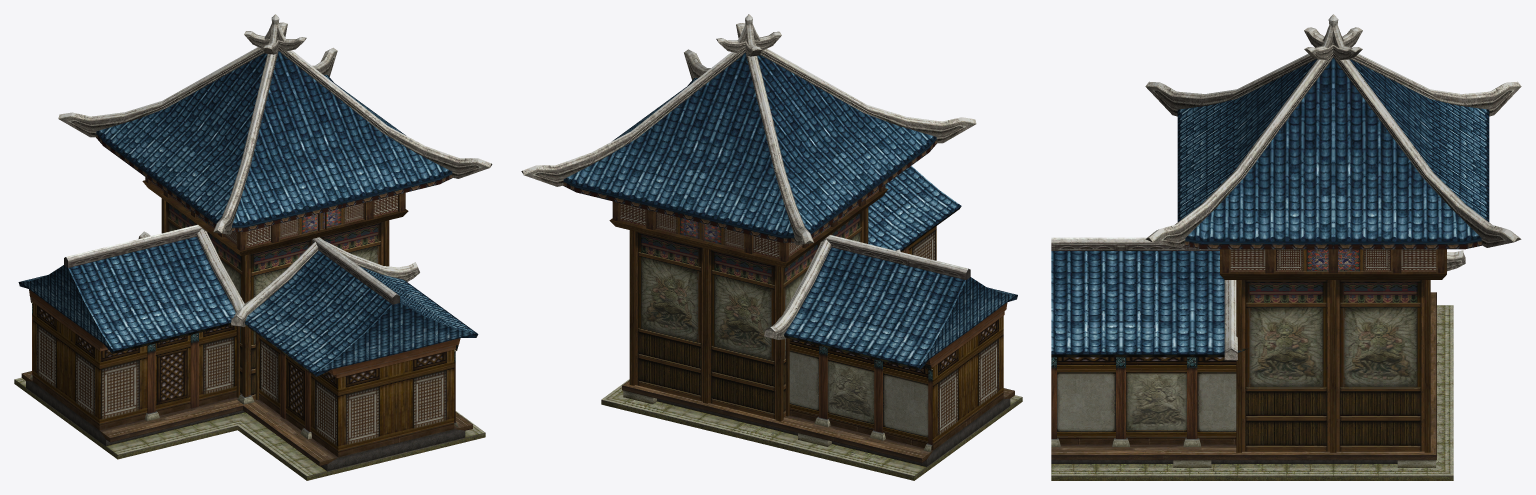
The model's file is secret_wall_corner_01.fbx.
3 renders of one model, left to right at view 1: azimuth 30°, elevation 25°; view 2: azimuth 150°, elevation 25°; view 3: azimuth 270°, elevation 25°, orthographic. The views are drawn at different scales.
Visible parts, largest first — view 1: secret_wall_corner_01; view 2: secret_wall_corner_01; view 3: secret_wall_corner_01.
Part boxes in pixels (x1=…): secret_wall_corner_01: x1=14, y1=14, x2=492, y2=480; secret_wall_corner_01: x1=521, y1=14, x2=1022, y2=480; secret_wall_corner_01: x1=1051, y1=14, x2=1521, y2=480.
Bounding box in the file's own units: 25.01 × 24.41 × 25.01.
